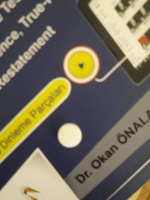Arveles: (56, 122, 84, 149)
